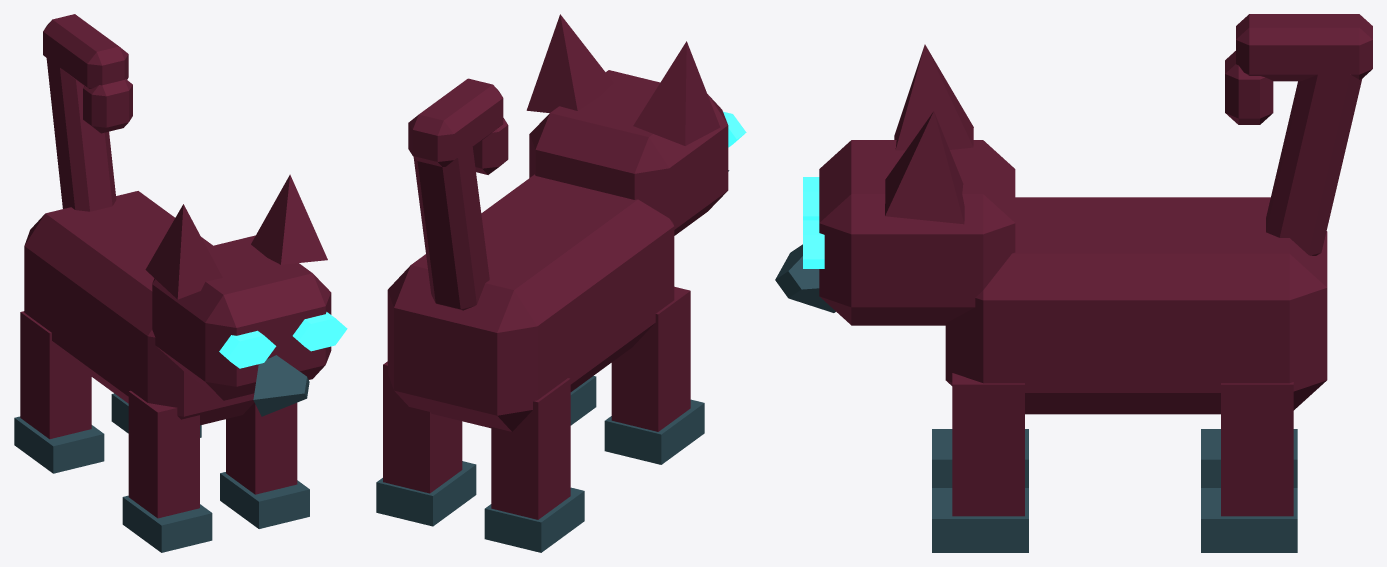
File: cat_fit.glb
3 renders of one model, left to right at view 1: azimuth 30°, elevation 25°; view 2: azimuth 150°, elevation 25°; view 3: azimuth 270°, elevation 25°, orthographic. The views are drawn at different scales.
Visible parts, largest first — view 1: Torso, Head, Leg0, Leg2, TailA, Leg1, TailB, EarL, EarR, Paw2, Paw0, Paw1 (+5 smaller); view 2: Torso, Head, TailA, Leg2, Leg0, Leg3, TailB, EarL, EarR, Paw0, Paw2, Paw3 (+2 smaller); view 3: Torso, Head, TailA, Leg1, Leg3, TailB, EarR, Paw1, Paw3, EarL, TailC, Muzzle (+4 smaller).
Boxes of the visible parts, x1,y1,x2,y2 form: Torso: (24,191,254,425); Head: (152,235,331,400); Leg0: (128,390,199,518); Leg2: (20,311,91,439); TailA: (46,58,116,211); Leg1: (226,402,297,494); TailB: (43,14,128,88); EarL: (145,204,222,299); EarR: (251,174,327,264); Paw2: (14,416,104,473); Paw0: (122,495,212,552); Paw1: (220,472,309,528); Torso: (387,174,674,431); Head: (529,70,728,235); TailA: (413,142,489,310); Leg2: (491,378,570,519); Leg0: (611,286,690,431); Leg3: (383,361,462,493); TailB: (408,78,503,166); EarL: (633,41,720,145); EarR: (526,14,613,112); Paw0: (604,399,704,464); Paw2: (484,487,584,552); Paw3: (376,461,476,526); Torso: (945,197,1327,414); Head: (819,140,1015,325); TailA: (1266,69,1361,255); Leg1: (952,373,1024,516); Leg3: (1221,382,1293,516); TailB: (1236,14,1372,81); EarR: (885,111,964,224); Paw1: (932,488,1028,552); Paw3: (1201,488,1297,552); EarL: (894,44,973,150); TailC: (1225,51,1273,124); Muzzle: (775,244,835,312).
Size of the model in its own units: 0.396 by 1 by 1.11.
